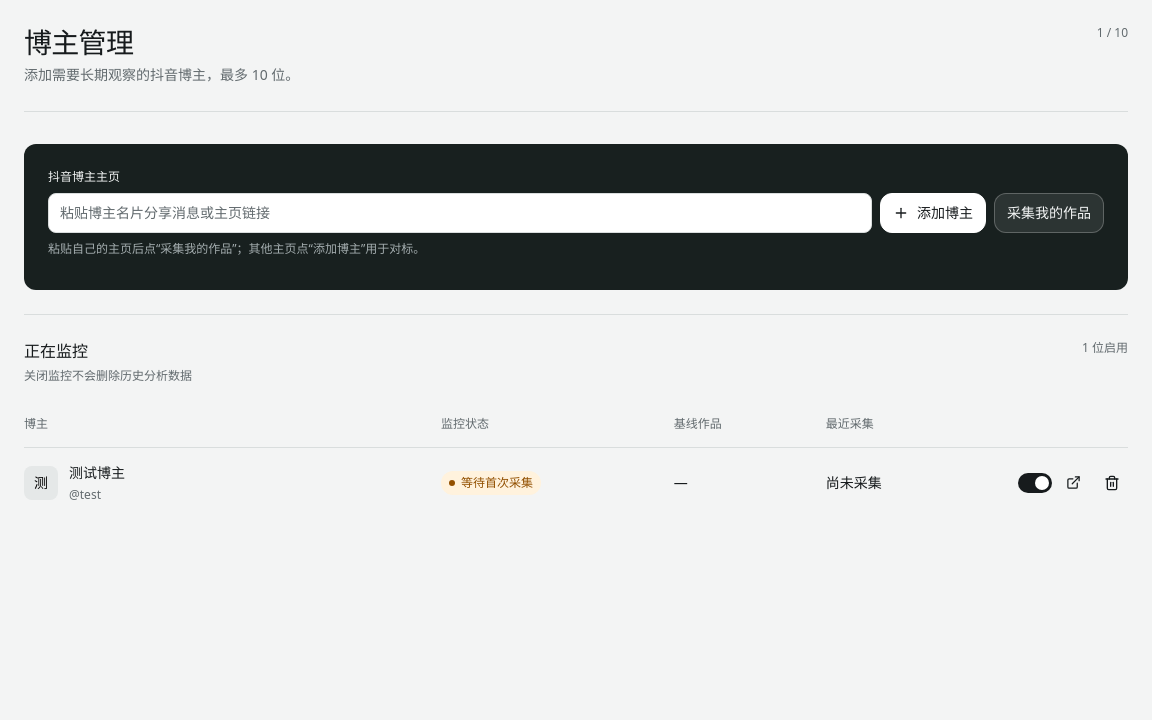
Test case: creator management › keeps the confirmation open when desktop deletion fails
What coordinates should you click on to do the following:
click the button named "删除测试博主"
I would click on:
 (1112, 483)
Its box is [1096, 467, 1128, 499].
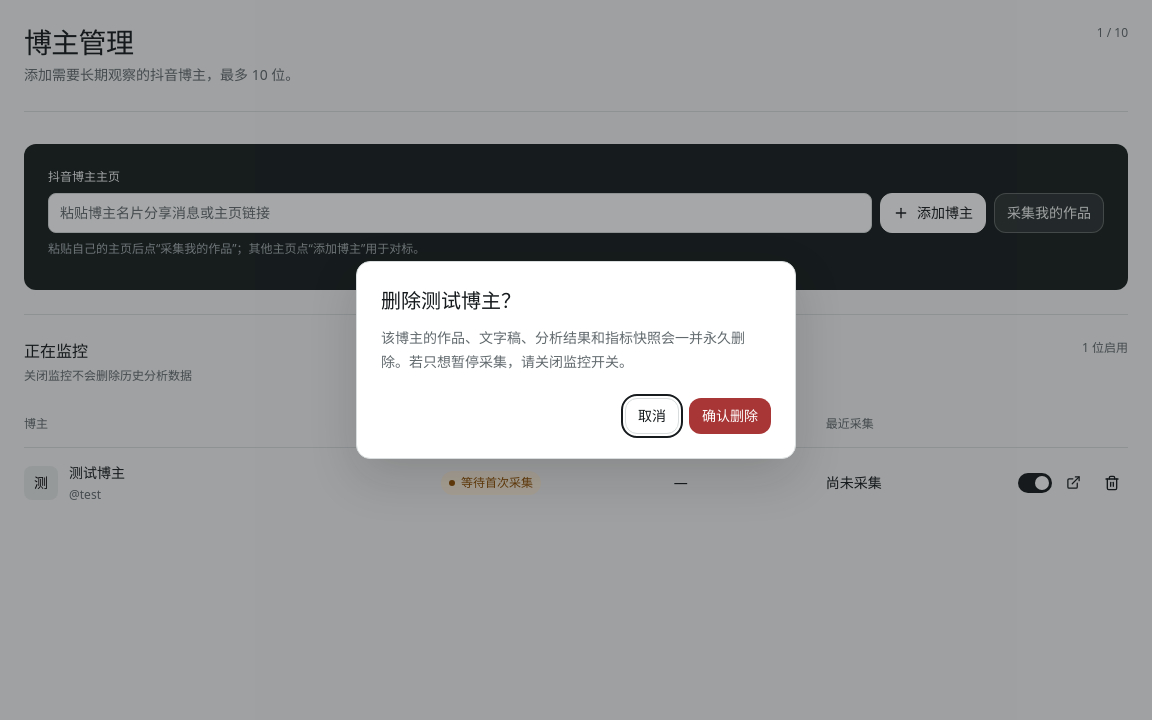
What coordinates should you click on to do the following:
click the button "确认删除"
I would click on:
 (730, 416)
Its box is [689, 398, 771, 434].
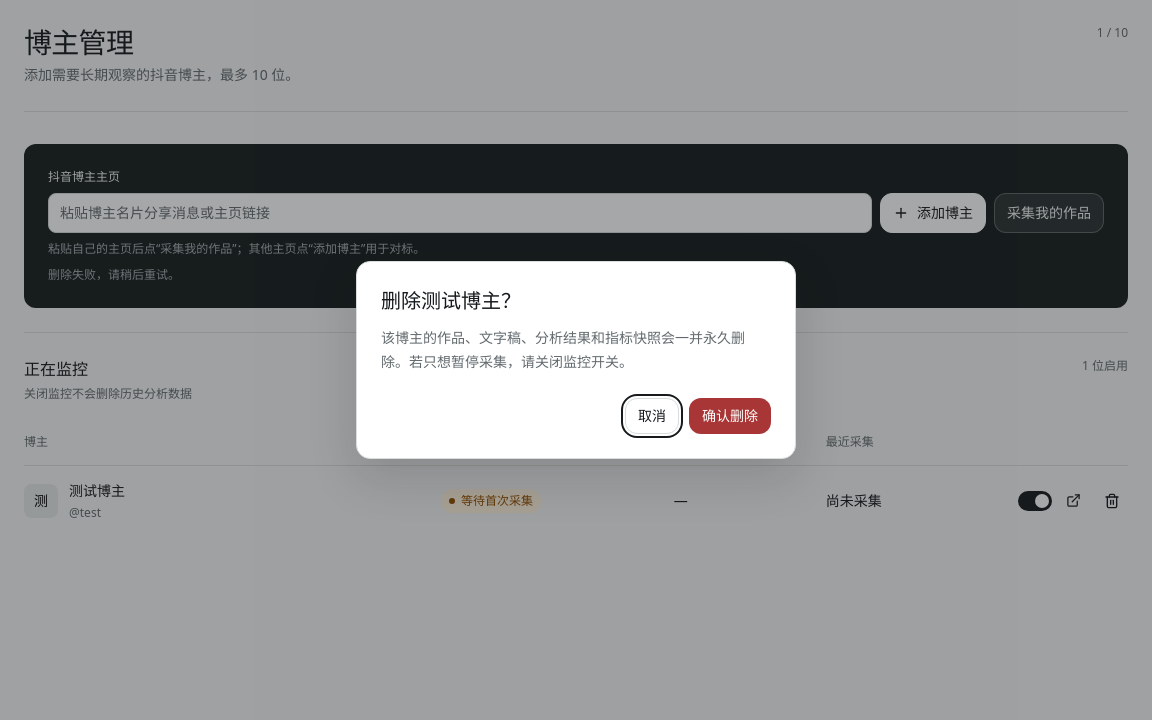
Expected: the dialog "删除测试博主？" is shown, [356, 261, 796, 459]
Expected: the text "删除失败，请稍后重试。" is shown, [48, 266, 180, 283]
